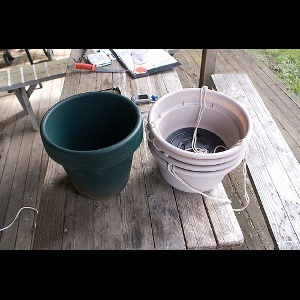flowerpot: (145, 88, 253, 195), (41, 93, 143, 202)
